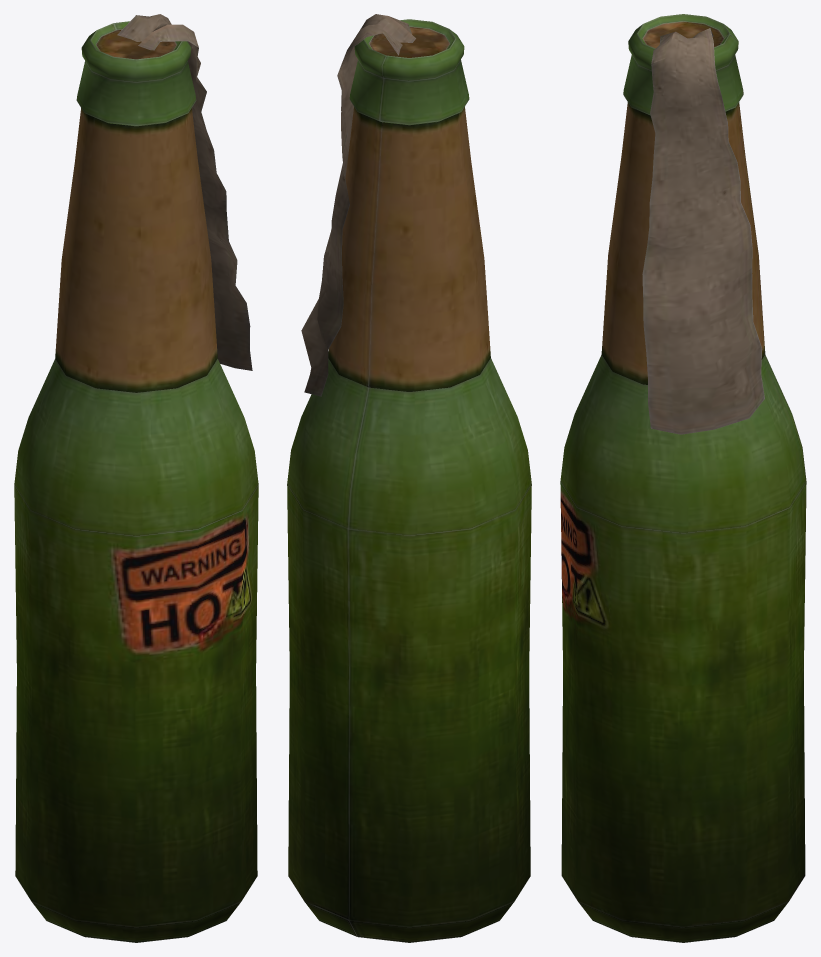
The model's file is ranshaoping.fbx.
The picture shows the model from 3 angles, left to right: view 1: azimuth 30°, elevation 25°; view 2: azimuth 150°, elevation 25°; view 3: azimuth 270°, elevation 25°; orthographic projection.
Parts seen in each view (by area): view 1: Molotov_molotov_0; view 2: Molotov_molotov_0; view 3: Molotov_molotov_0.
Boxes of the visible parts, bbox=[...] form: Molotov_molotov_0: bbox=[14, 14, 258, 942]; Molotov_molotov_0: bbox=[287, 14, 531, 942]; Molotov_molotov_0: bbox=[560, 14, 806, 942].
Size of the model in its own units: 8.41 by 33.39 by 8.41.
Materials: 1 (1 with a texture image).
